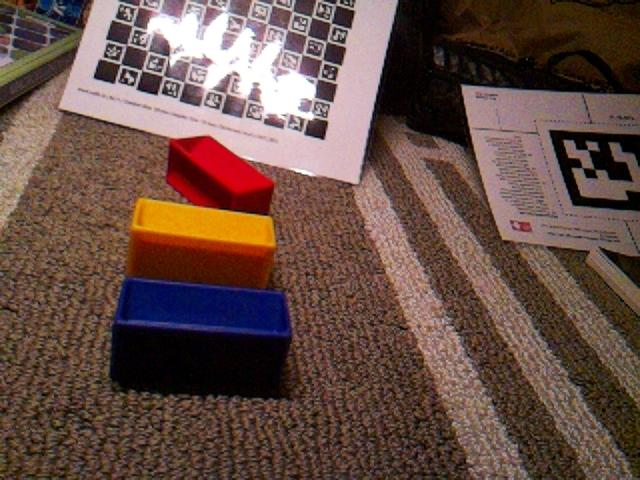blue: (108, 275, 294, 396)
red: (164, 134, 276, 215)
yellow: (125, 196, 278, 289)
